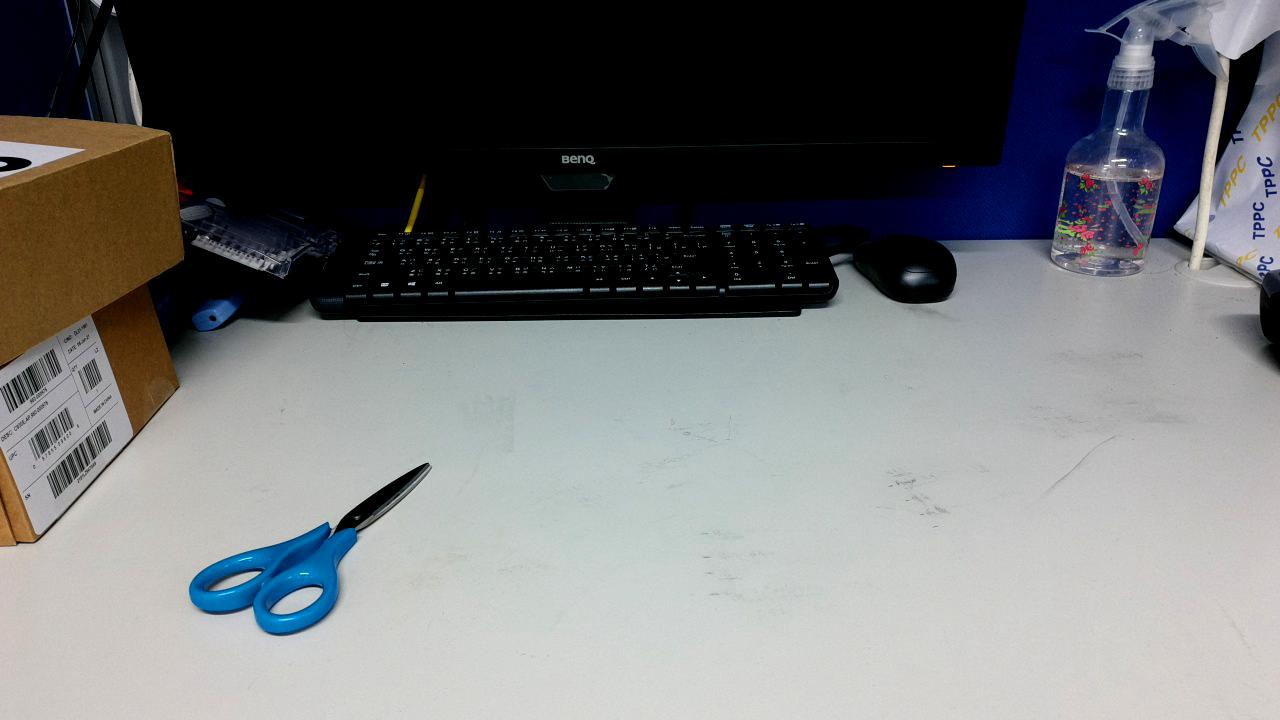columnar: (507, 427, 619, 634)
